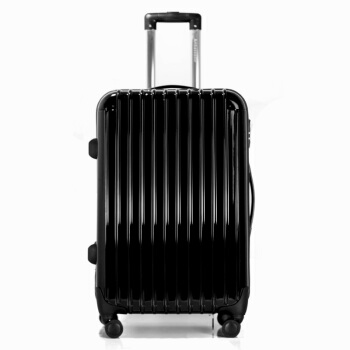luggage: (86, 8, 259, 338)
